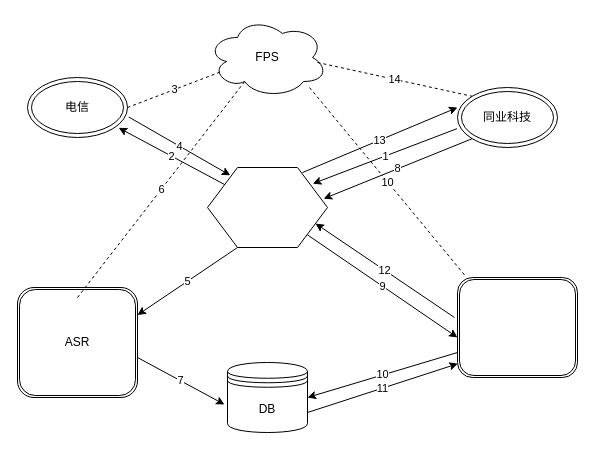
Image size: 595x450. Some labels were removed from this diagram. Each missing label, with the centre of its shape:
"rcs-qisrobot" goes at [517,327].
"RMB" goes at [267,207].
